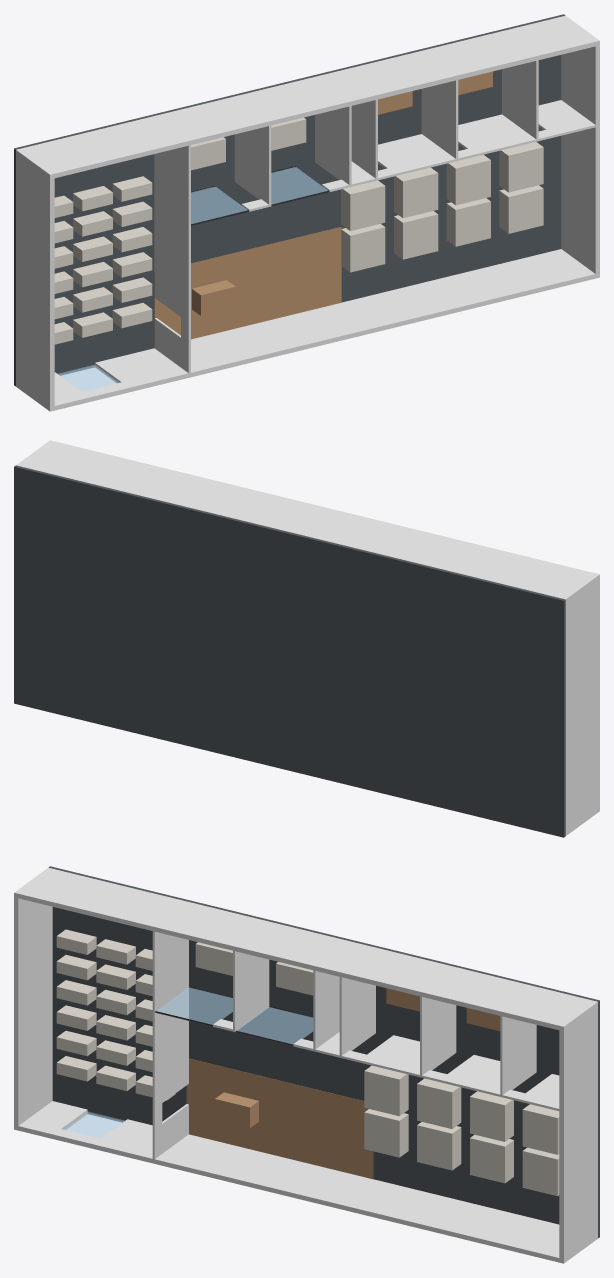
Rendered from sk_shipping_office.obj.
3 views of the same model, one above another, from view 1: azimuth 30°, elevation 25°; view 2: azimuth 150°, elevation 25°; view 3: azimuth 330°, elevation 25° (orthographic).
Bounding box in the file's own units: 25.02 × 10.3 × 2.85.
